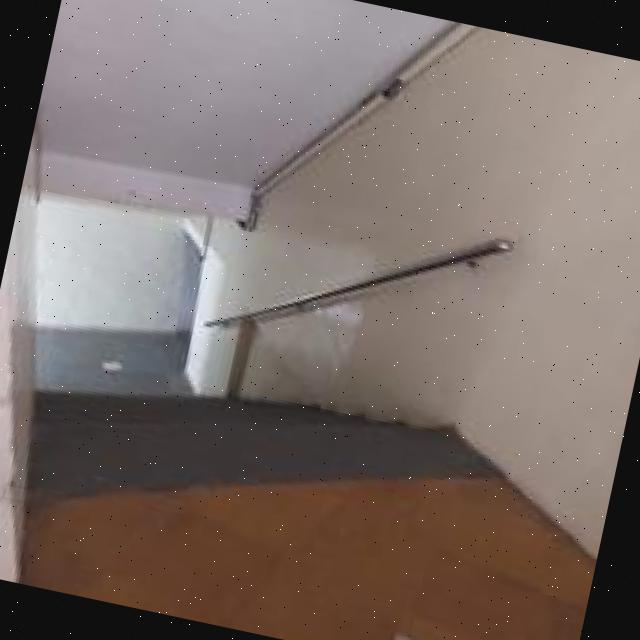stairs: (0, 153, 640, 587)
